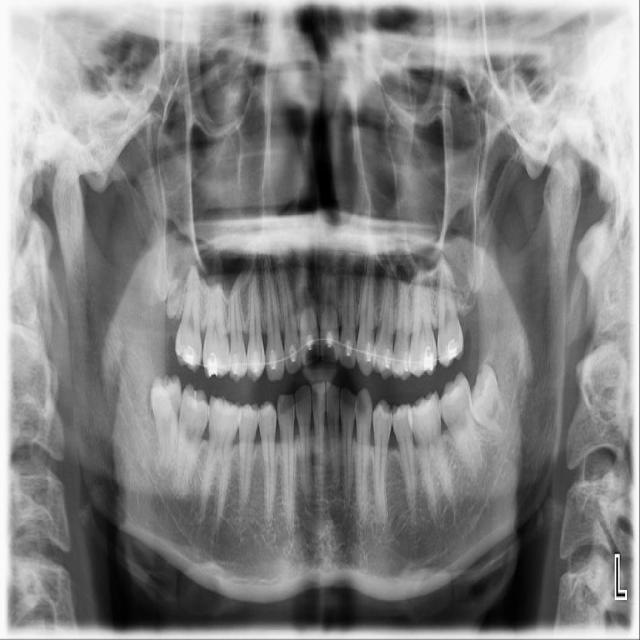impacted tooth: (150, 379, 180, 477)
